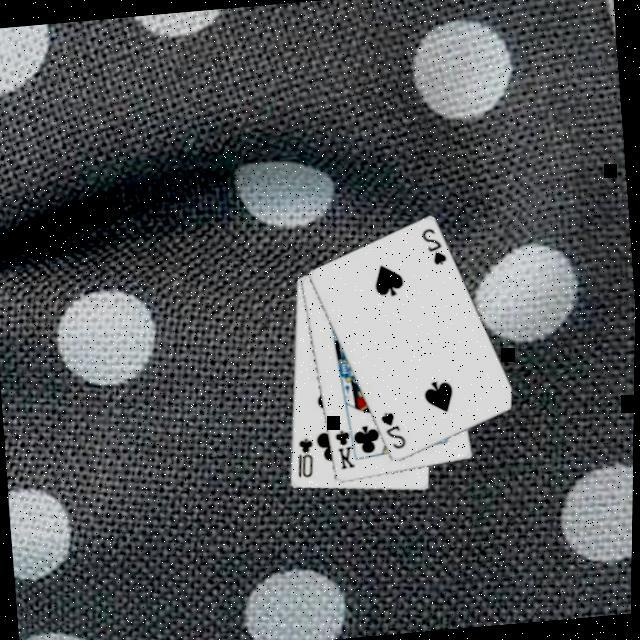10C: (292, 432, 320, 479)
2S: (377, 405, 411, 451), (418, 222, 452, 268)
KC: (332, 418, 363, 470)
